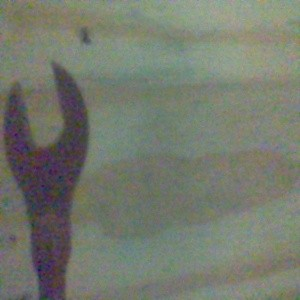spanner: (3, 60, 90, 300)
